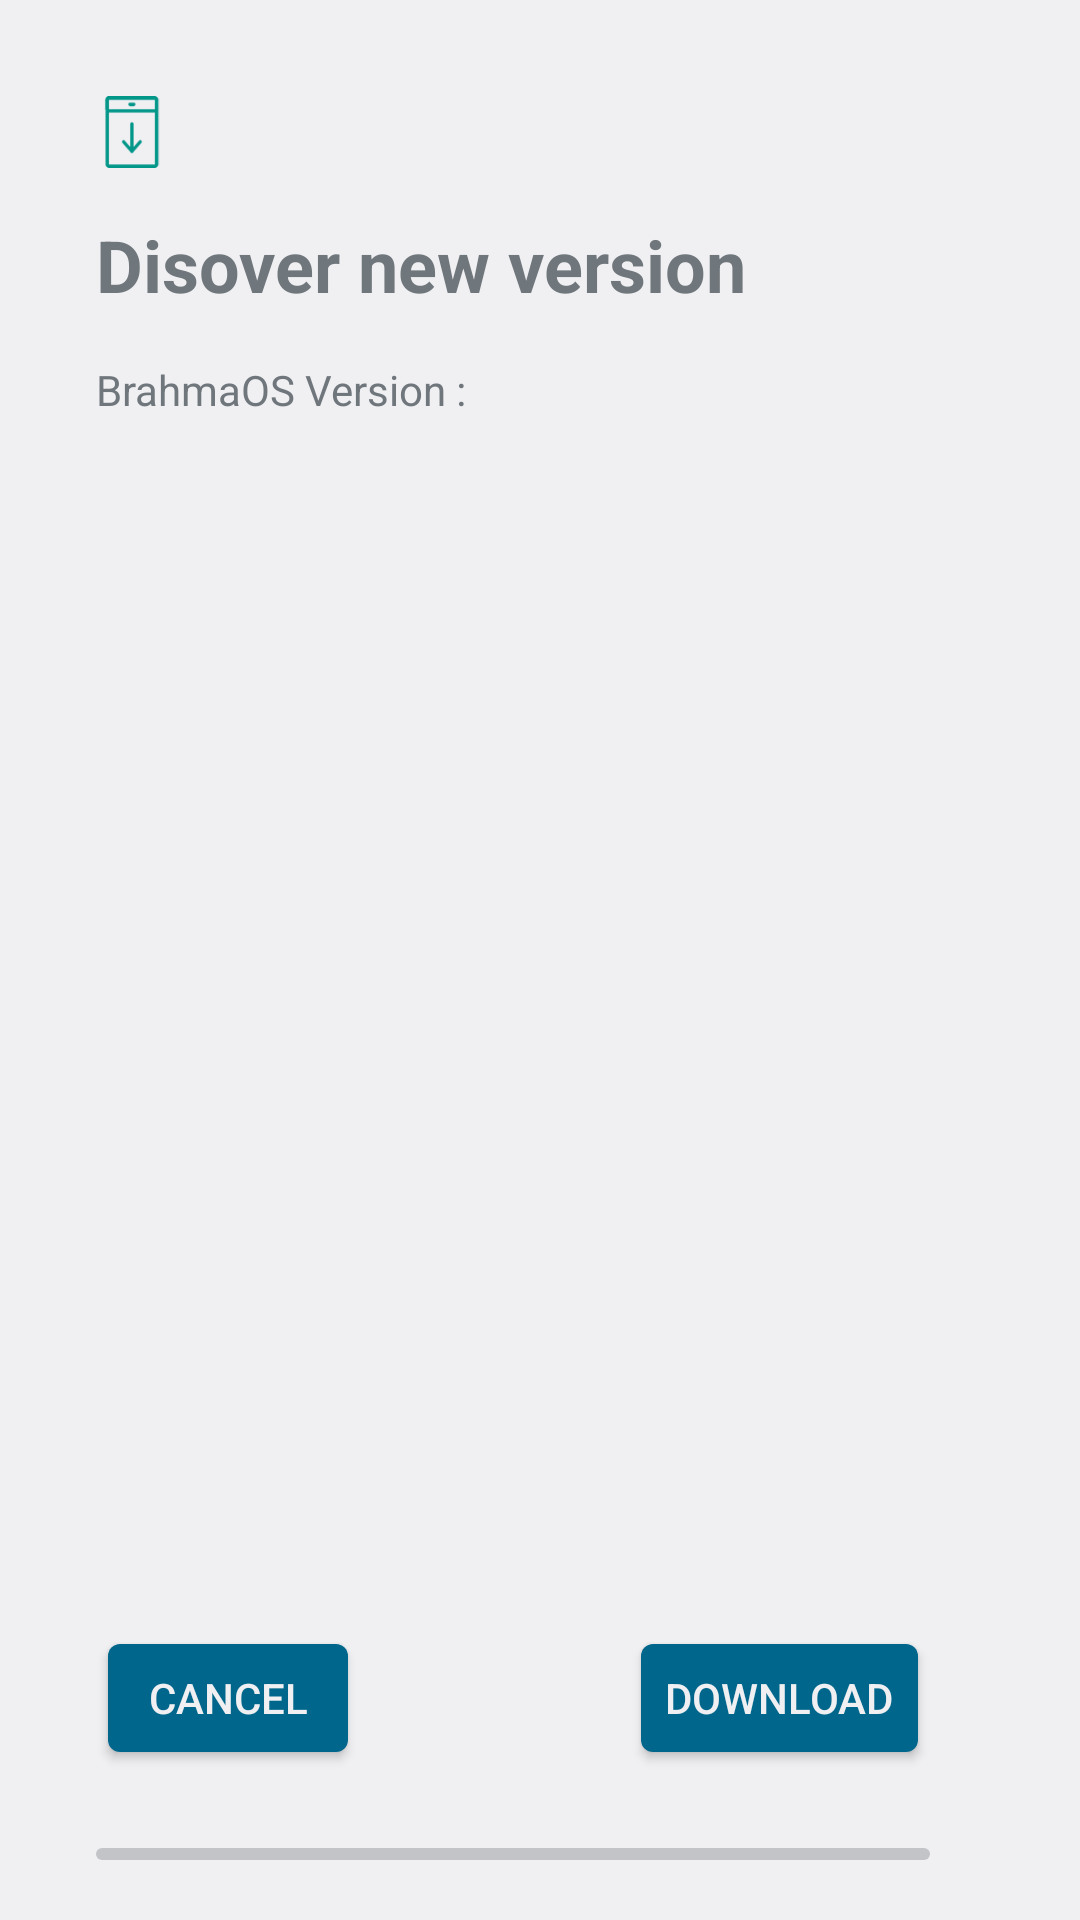

Named icons in this screenshot (1080*1920) and their bounding boxes, (x1, y1, x2, y2):
update: (105, 96, 159, 168)
